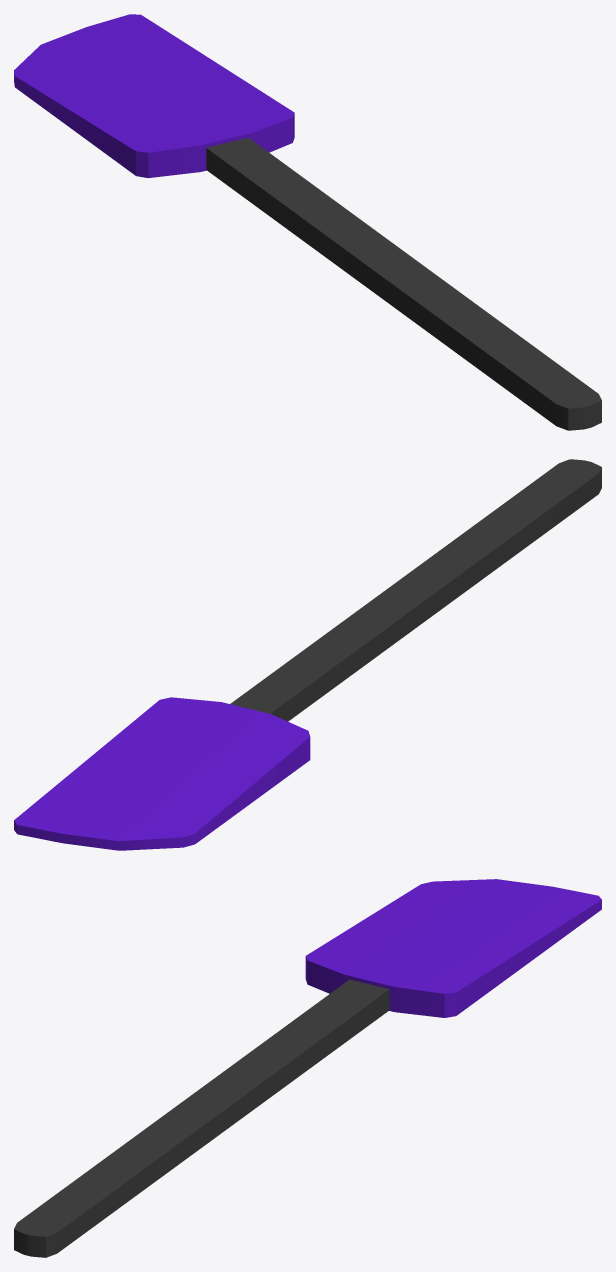
File: Rubber_Spatula_4.FBX
3 views of the same model, one above another, from view 1: azimuth 30°, elevation 25°; view 2: azimuth 150°, elevation 25°; view 3: azimuth 330°, elevation 25° (orthographic). The views are drawn at different scales.
Visible parts, largest first — view 1: Rubber_Spatula; view 2: Rubber_Spatula; view 3: Rubber_Spatula.
Part boxes in pixels (bbox=[...]): Rubber_Spatula: bbox=[14, 14, 601, 430]; Rubber_Spatula: bbox=[14, 459, 601, 850]; Rubber_Spatula: bbox=[14, 879, 601, 1257].
Bounding box in the file's own units: 15 × 2.41 × 86.77.
